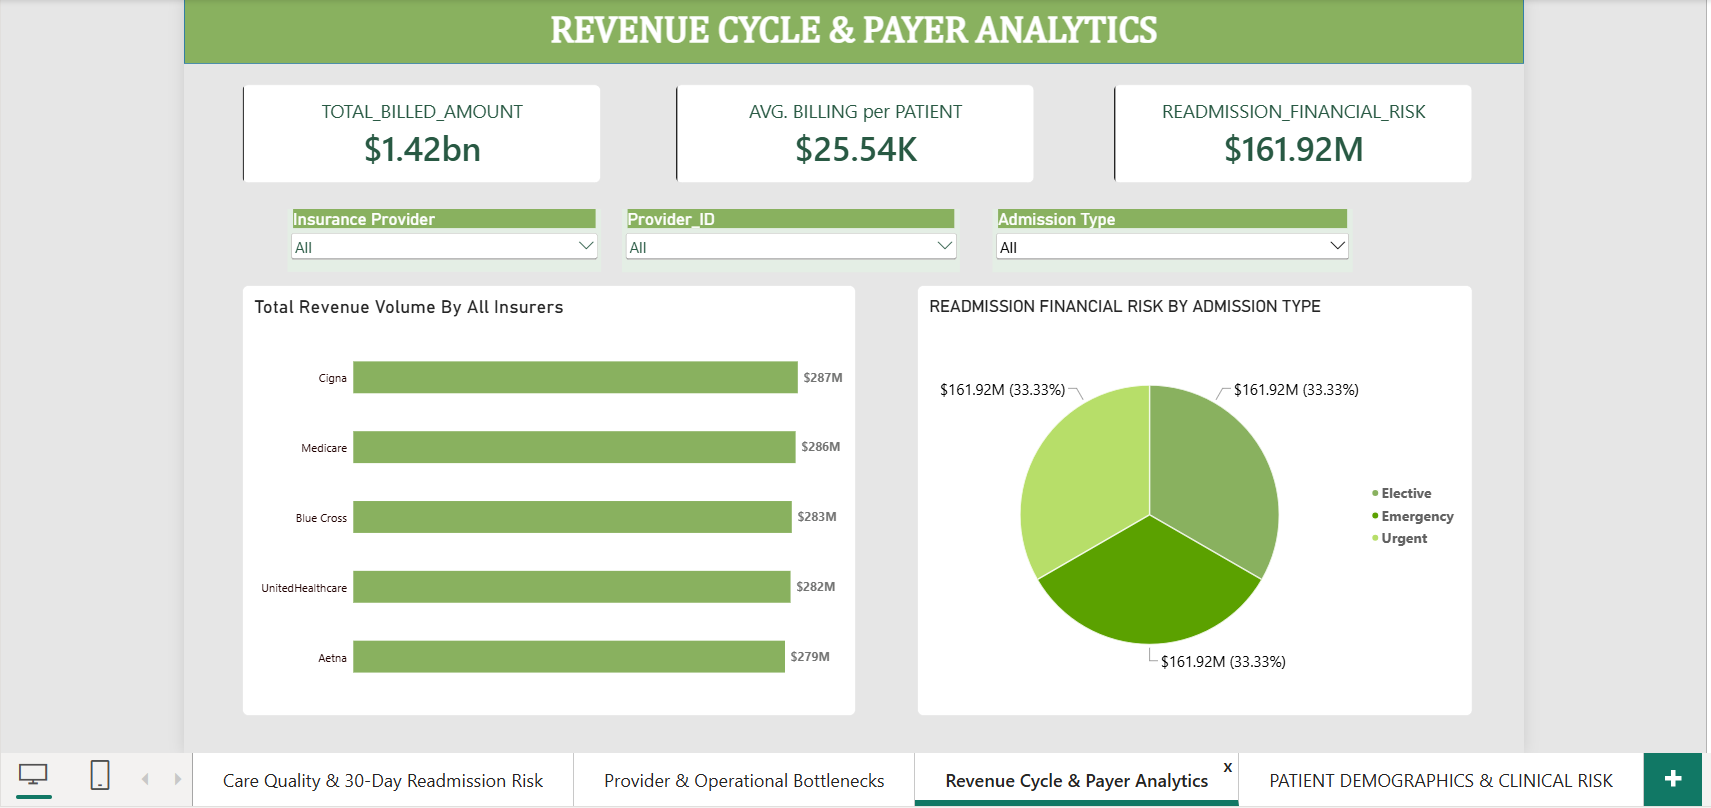

What the dashboard file says about the page in this screenshot:
{"tool":"powerbi","page":{"name":"Revenue Cycle & Payer Analytics","canvas":[1920,1080],"ordinal":2},"visuals":[{"type":"shape","box":[0,0,1919.2,92.9],"z":0},{"type":"cardVisual","fields":{"Data":["Sum(VW_PILLAR3_REVENUE_CYCLE.TOTAL_BILLED_AMOUNT)"]},"box":[83.1,122.2,513.4,141.8],"z":1000},{"type":"cardVisual","fields":{"Data":["Avg(VW_PILLAR3_REVENUE_CYCLE.AVG_BILLING_PER_PATIENT)"]},"box":[704.1,122.2,513.4,141.8],"z":2000},{"type":"cardVisual","fields":{"Data":["Sum(VW_PILLAR3_REVENUE_CYCLE.READMISSION_FINANCIAL_RISK)"]},"box":[1332.4,122.2,513.4,141.8],"z":3000},{"type":"clusteredBarChart","title":"Total Revenue Volume By All Insurers","fields":{"Category":["VW_PILLAR3_REVENUE_CYCLE.Insurance Provider"],"Y":["Sum(VW_PILLAR3_REVENUE_CYCLE.TOTAL_BILLED_AMOUNT)"]},"box":[83.1,410.7,877.7,616.1],"z":4000},{"type":"slicer","fields":{"Values":["VW_PILLAR3_REVENUE_CYCLE.Insurance Provider"]},"box":[148.3,300.8,449.1,90.2],"z":5000},{"type":"slicer","fields":{"Values":["VW_PILLAR2_OPERATIONS.Provider_ID"]},"box":[628.3,300.7,484.1,90.5],"z":6000},{"type":"slicer","fields":{"Values":["VW_PILLAR2_OPERATIONS.Admission Type"]},"box":[1158.1,300.8,515.9,90.5],"z":7000},{"type":"pieChart","title":"READMISSION FINANCIAL RISK BY ADMISSION TYPE","fields":{"Category":["VW_PILLAR2_OPERATIONS.Admission Type"],"Y":["Sum(VW_PILLAR3_REVENUE_CYCLE.READMISSION_FINANCIAL_RISK)"]},"box":[1051.3,410.7,794.6,616.1],"z":8000}]}

Visuals, with their boxes on the page's 1920x1080 design canvas (x1, y1, x2, y2). These are canvas units, not pixel positions in the 1711x808 screenshot, which may show the page scaled, cropped or inside an application window:
shape: [0,0,1919,93]
cardVisual - Sum(VW_PILLAR3_REVENUE_CYCLE.TOTAL_BILLED_AMOUNT): [83,122,596,264]
cardVisual - Avg(VW_PILLAR3_REVENUE_CYCLE.AVG_BILLING_PER_PATIENT): [704,122,1218,264]
cardVisual - Sum(VW_PILLAR3_REVENUE_CYCLE.READMISSION_FINANCIAL_RISK): [1332,122,1846,264]
"Total Revenue Volume By All Insurers" clusteredBarChart: [83,411,961,1027]
slicer - VW_PILLAR3_REVENUE_CYCLE.Insurance Provider: [148,301,597,391]
slicer - VW_PILLAR2_OPERATIONS.Provider_ID: [628,301,1112,391]
slicer - VW_PILLAR2_OPERATIONS.Admission Type: [1158,301,1674,391]
"READMISSION FINANCIAL RISK BY ADMISSION TYPE" pieChart: [1051,411,1846,1027]
